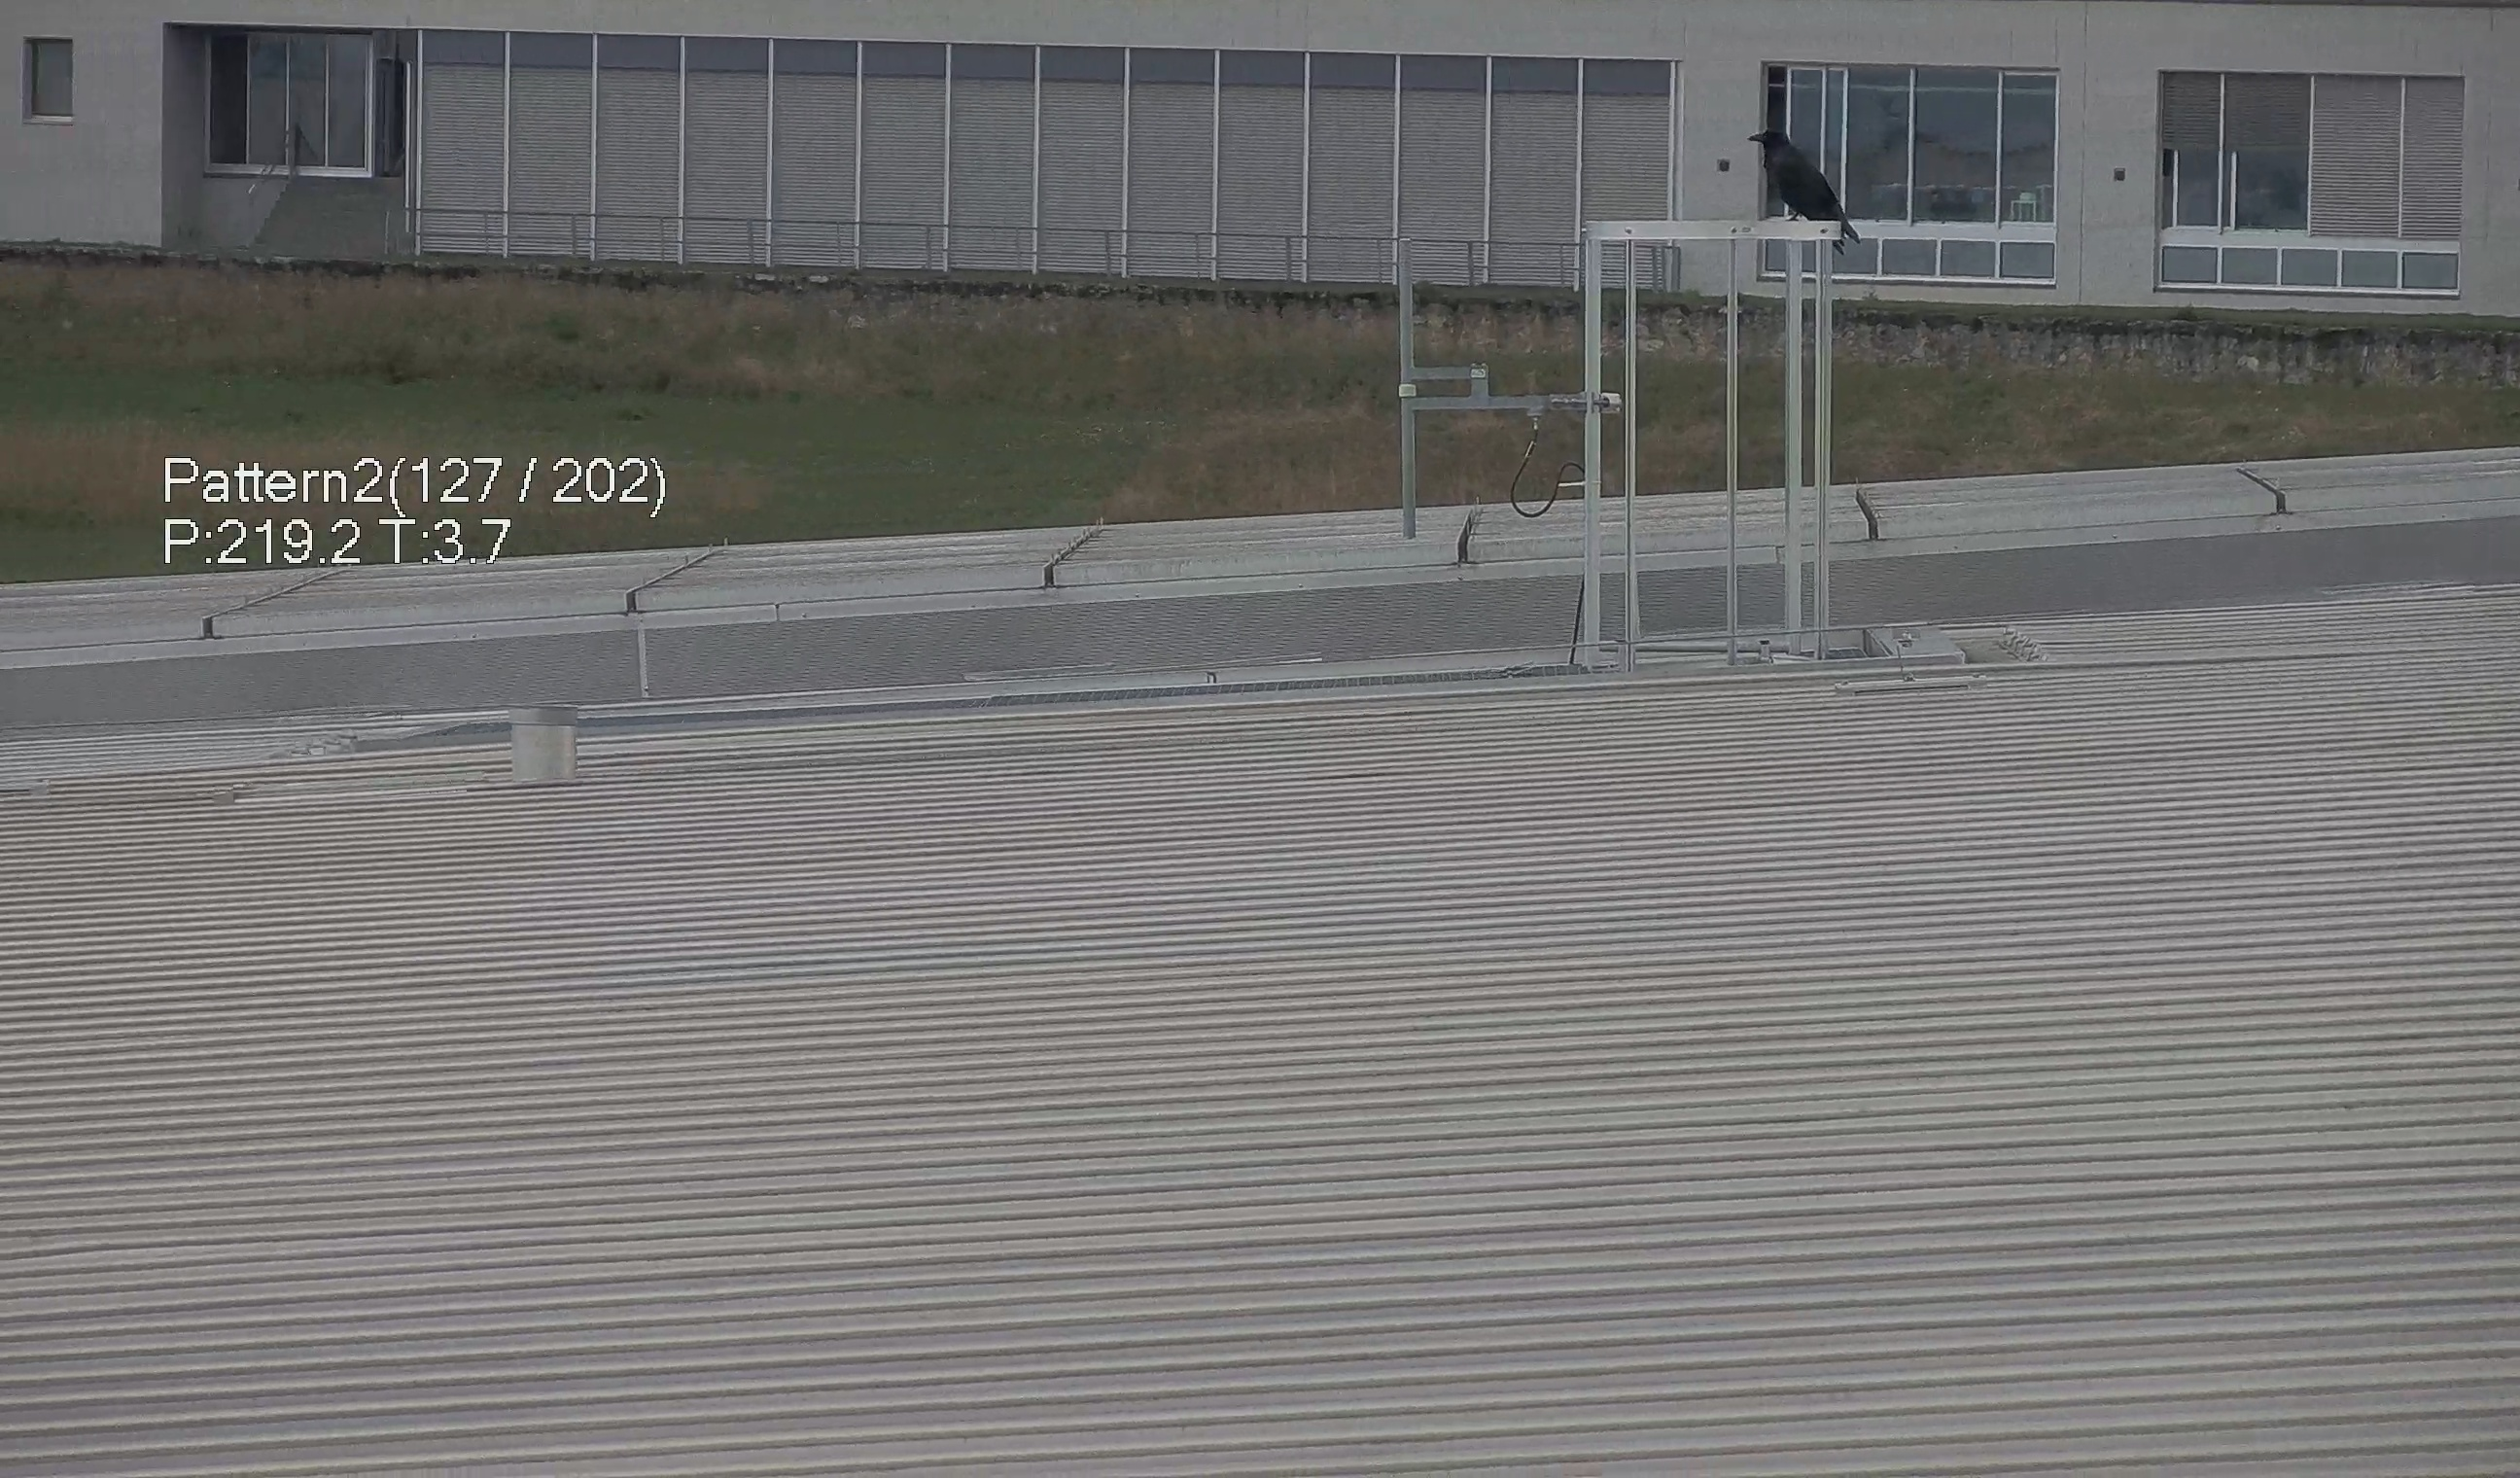Pigeon: (1755, 109, 1871, 252)
